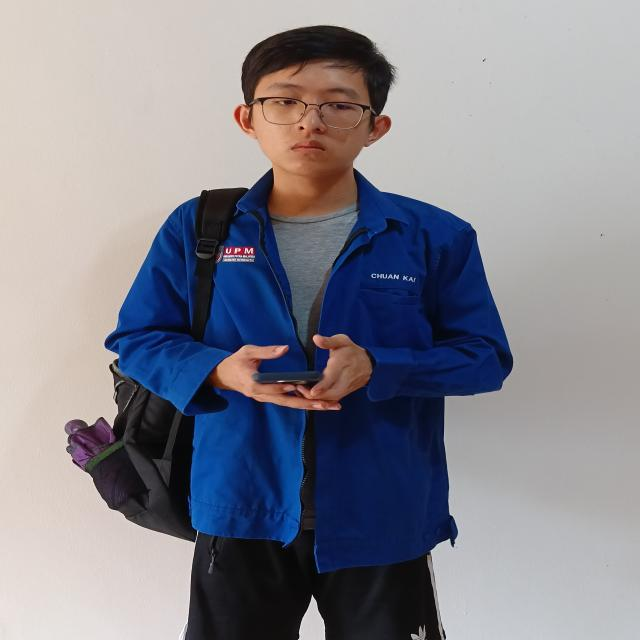person_with_labcoat: (66, 26, 512, 640)
